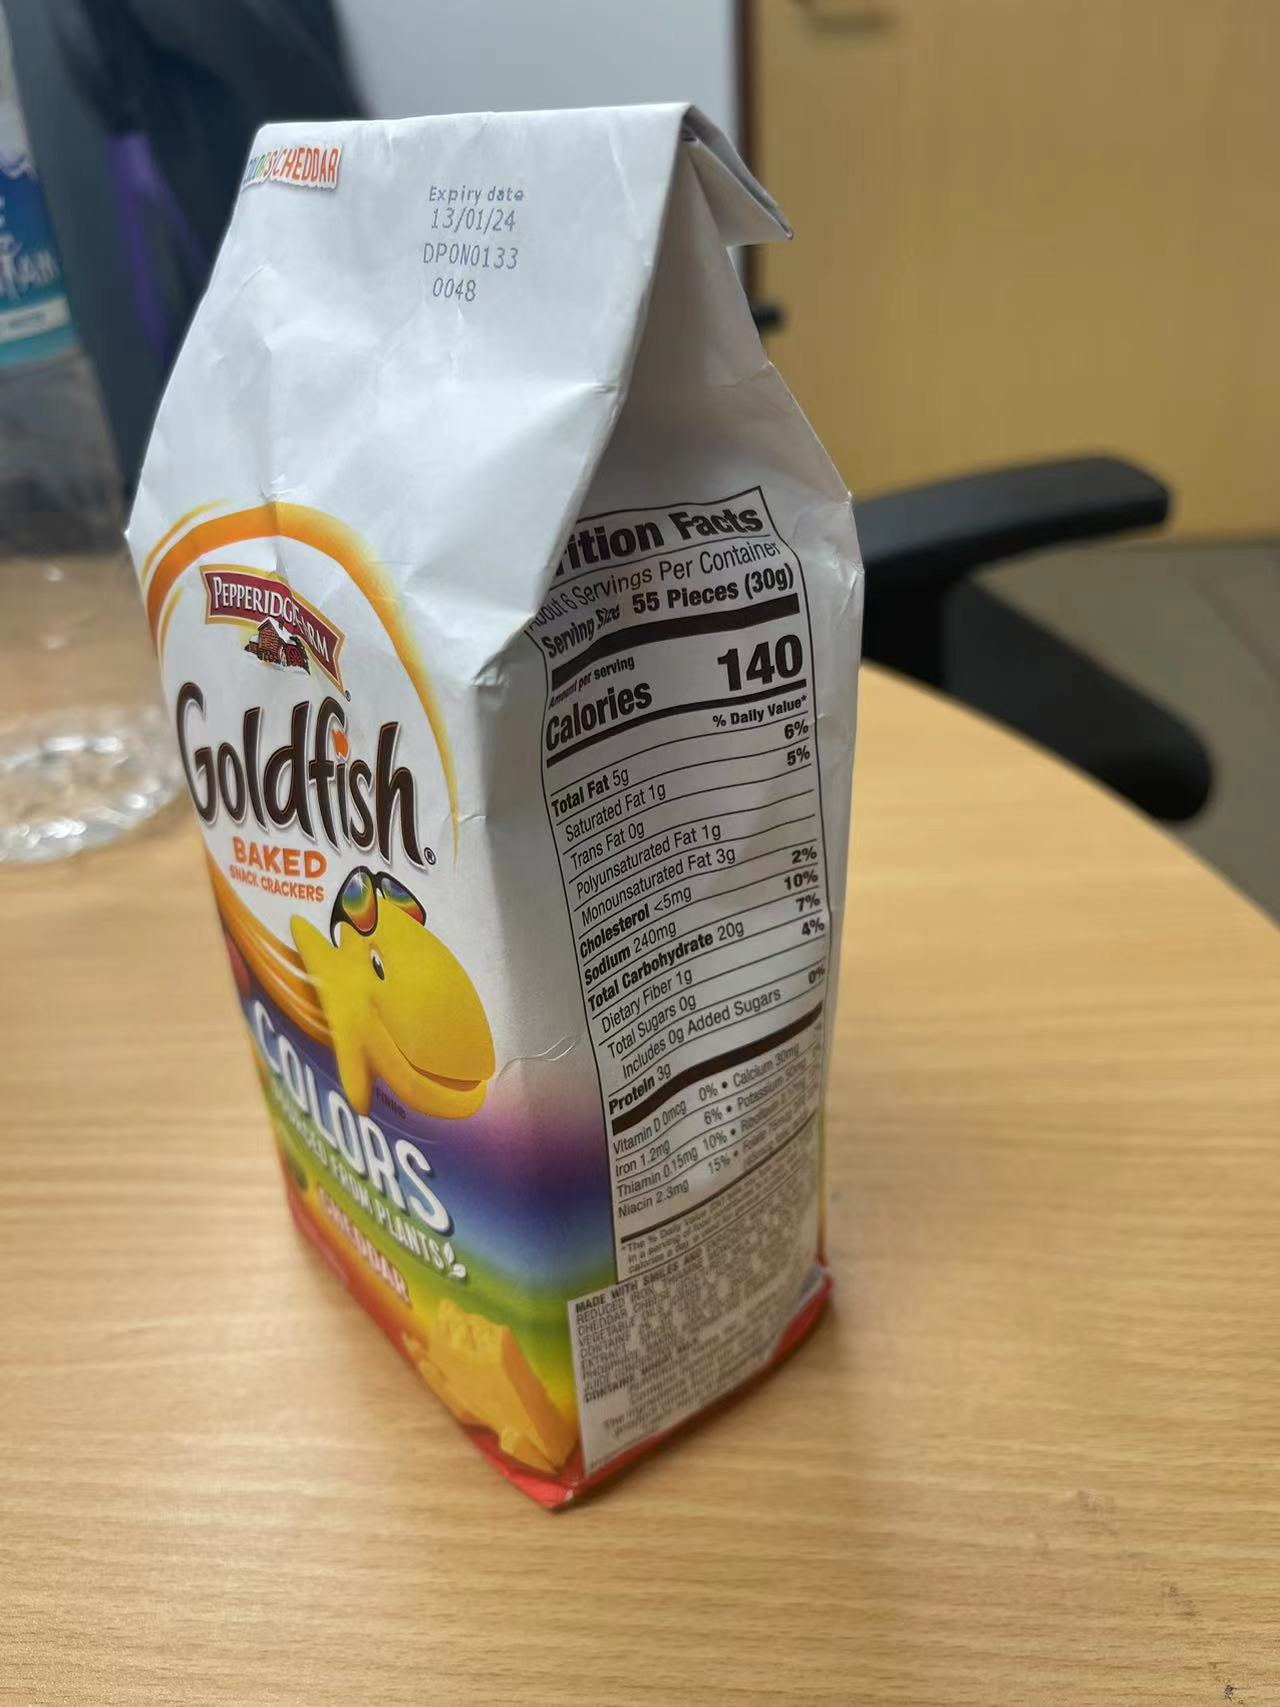Crackers_100-199g_NonHalal_NonHealthy: (152, 118, 844, 1505)
